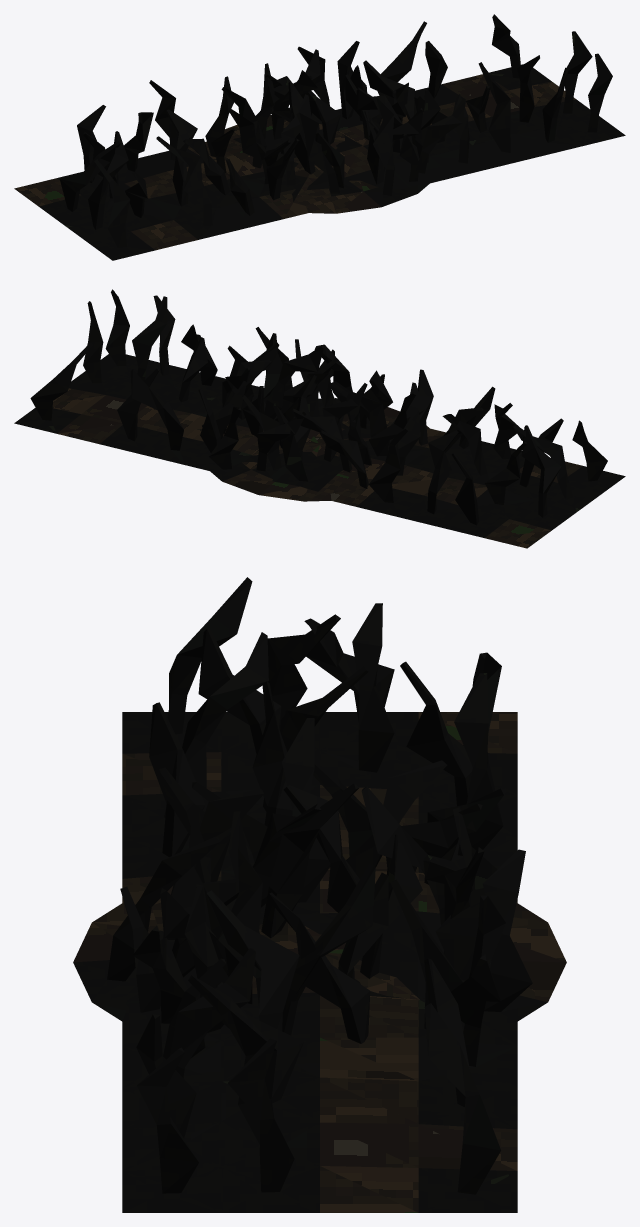
Rendered from forest_thorns.glb.
3 views of the same model, one above another, from view 1: azimuth 30°, elevation 25°; view 2: azimuth 150°, elevation 25°; view 3: azimuth 270°, elevation 25° (orthographic). The views are drawn at different scales.
Visible parts, largest first — view 1: ForestThornsStrip, ForestThornsRound; view 2: ForestThornsStrip, ForestThornsRound; view 3: ForestThornsStrip, ForestThornsRound.
Part boxes in pixels (box(x1,y1,x2,y2)): ForestThornsStrip: box(14, 14, 625, 260); ForestThornsRound: box(205, 46, 440, 213); ForestThornsStrip: box(14, 289, 625, 548); ForestThornsRound: box(202, 333, 433, 501); ForestThornsStrip: box(122, 577, 517, 1212); ForestThornsRound: box(73, 718, 566, 1043).
Size of what is drawn, in the model's own units: 6 by 0.9503 by 2.5.
1 material, 1 textured.
